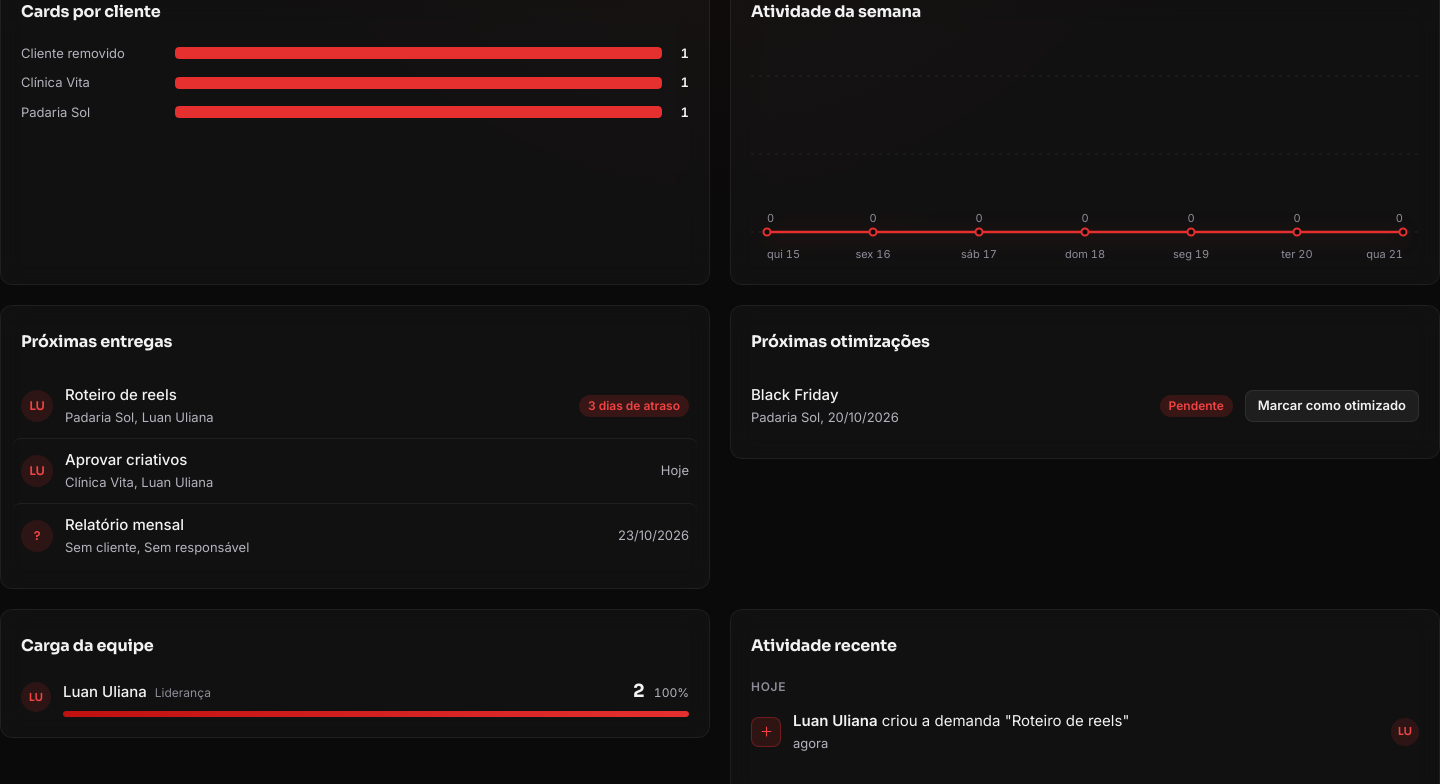
Test: DashboardPage › avisa e desfaz quando o banco recusa a otimização
(page scrolled)
Check: the link "Black Friday" is shown, box [751, 385, 838, 404]
Click the button "Marcar como otimizado": (1332, 406) [1245, 390, 1419, 422]
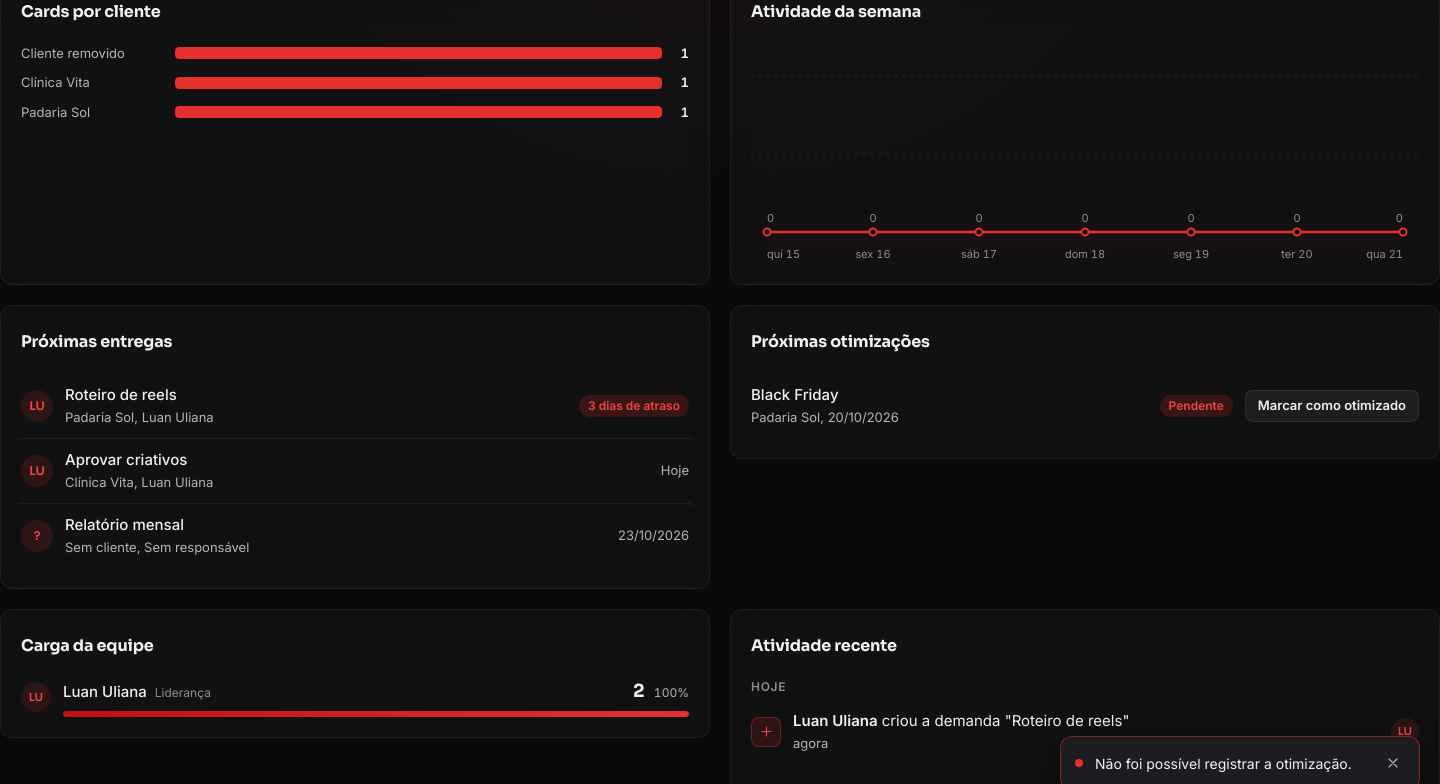
Check: the text "Não foi possível registrar a otimização." is shown, box [1095, 752, 1367, 774]
